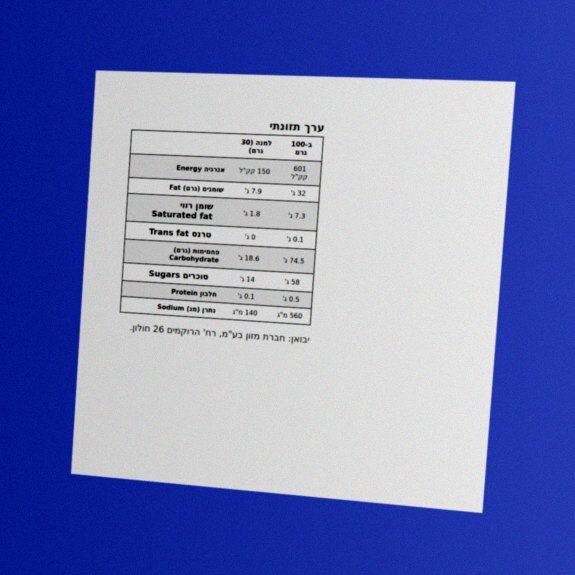carbs: (281, 255, 306, 266)
energy: (289, 162, 310, 183)
fat: (289, 188, 307, 199)
protein: (281, 294, 301, 305)
